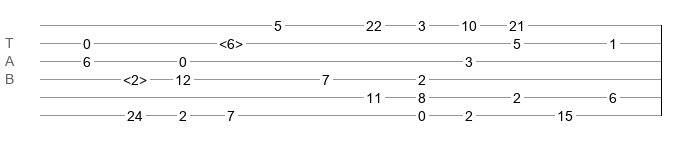0: (83, 36, 91, 46), (179, 54, 187, 64), (418, 108, 426, 118)
1: (609, 36, 617, 46)
10: (461, 18, 477, 28)
11: (366, 90, 382, 100)
12: (175, 72, 191, 82)
15: (557, 108, 573, 118)
2: (179, 108, 187, 118), (418, 72, 426, 82), (465, 108, 473, 118), (513, 90, 521, 100)
21: (509, 18, 525, 28)
22: (366, 18, 382, 28)
24: (127, 108, 143, 118)
3: (418, 18, 426, 28), (465, 54, 473, 64)
5: (274, 18, 282, 28), (513, 36, 521, 46)
6: (83, 54, 91, 64), (609, 90, 617, 100)
7: (227, 108, 235, 118), (322, 72, 330, 82)
8: (418, 90, 426, 100)
harmonic: (123, 72, 147, 82), (219, 36, 243, 46)
